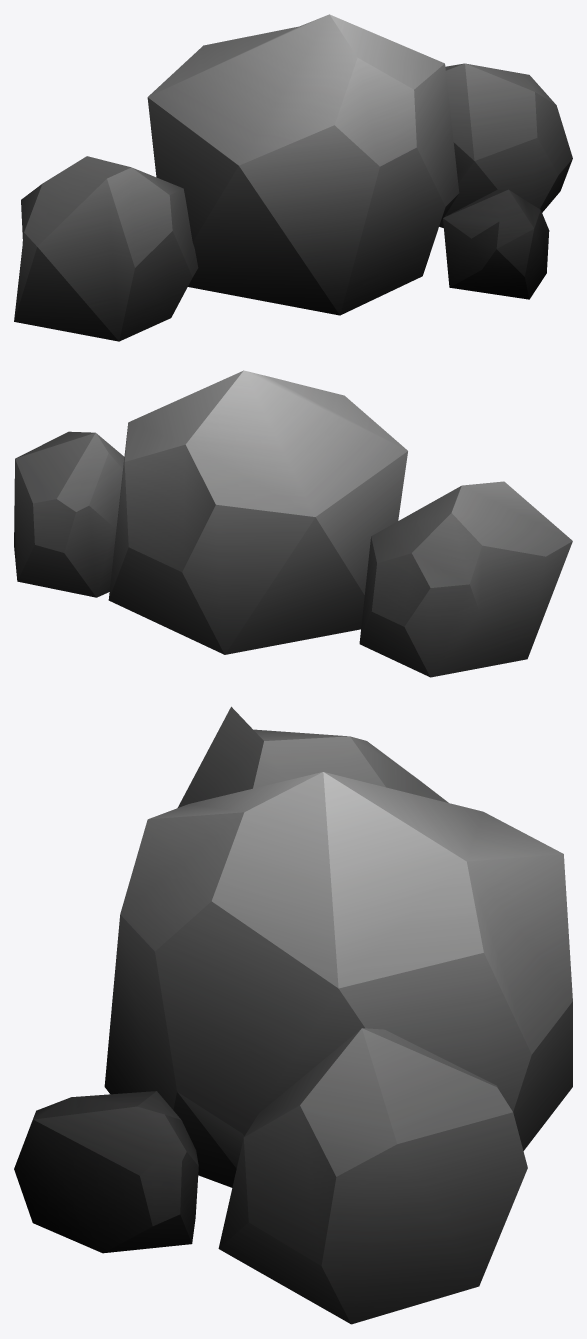
File: rock2.fbx
3 views of the same model, one above another, from view 1: azimuth 30°, elevation 25°; view 2: azimuth 150°, elevation 25°; view 3: azimuth 270°, elevation 25° (orthographic). The views are drawn at different scales.
Visible parts, largest first — view 1: rock6; view 2: rock6; view 3: rock6.
Part boxes in pixels (bbox=[...]): rock6: bbox=[14, 14, 572, 341]; rock6: bbox=[14, 370, 572, 677]; rock6: bbox=[14, 706, 572, 1324].
Size of the model in its own units: 689 by 300 by 382.
